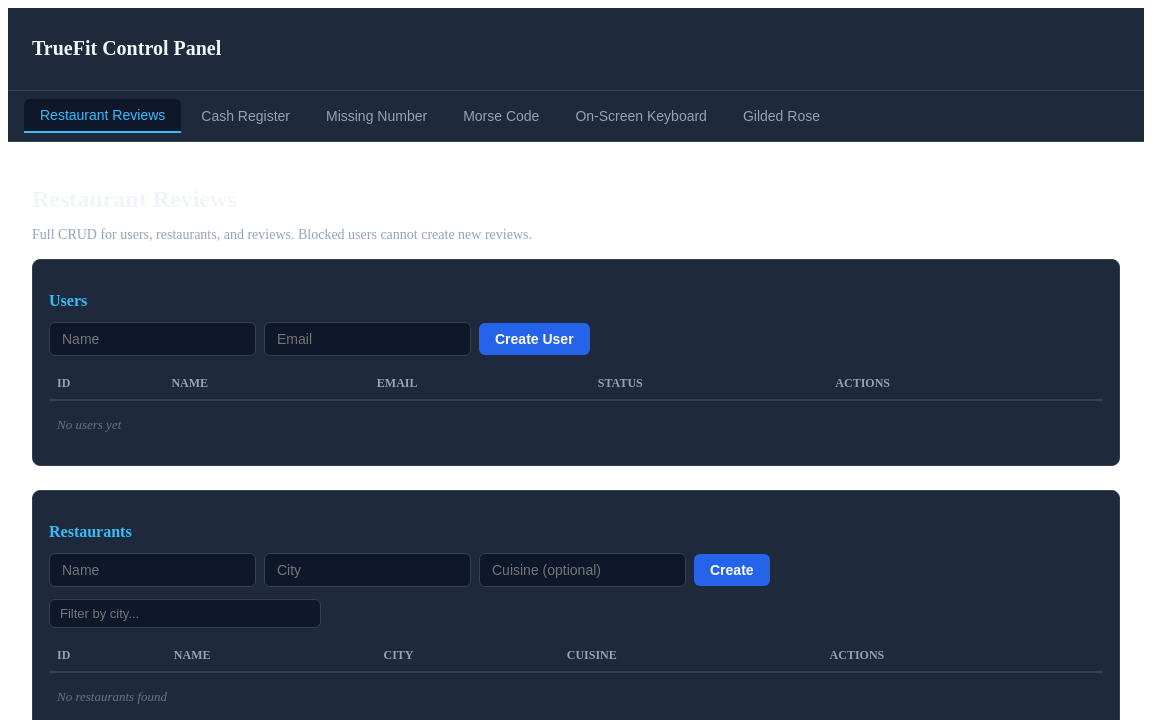
GildedRosePanel › renders start session form
Click the tab "Gilded Rose" at (781, 116), box [727,99,836,133]
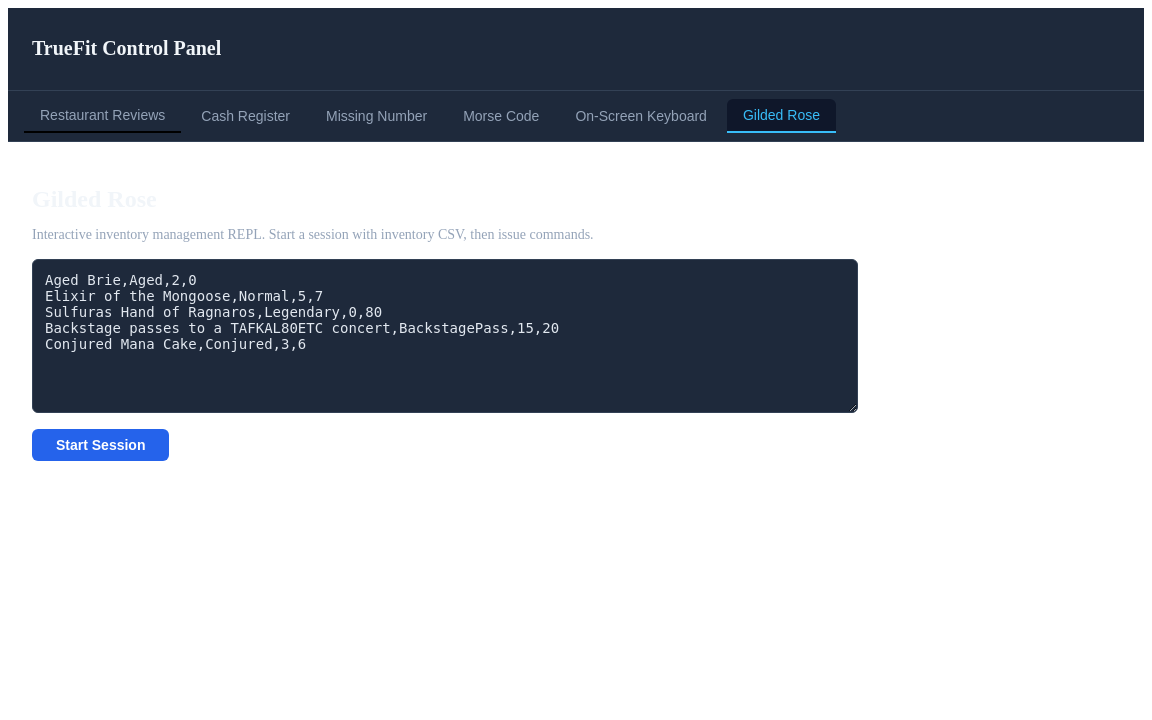
Now the button "Start Session" is shown, box [32,429,170,461]
